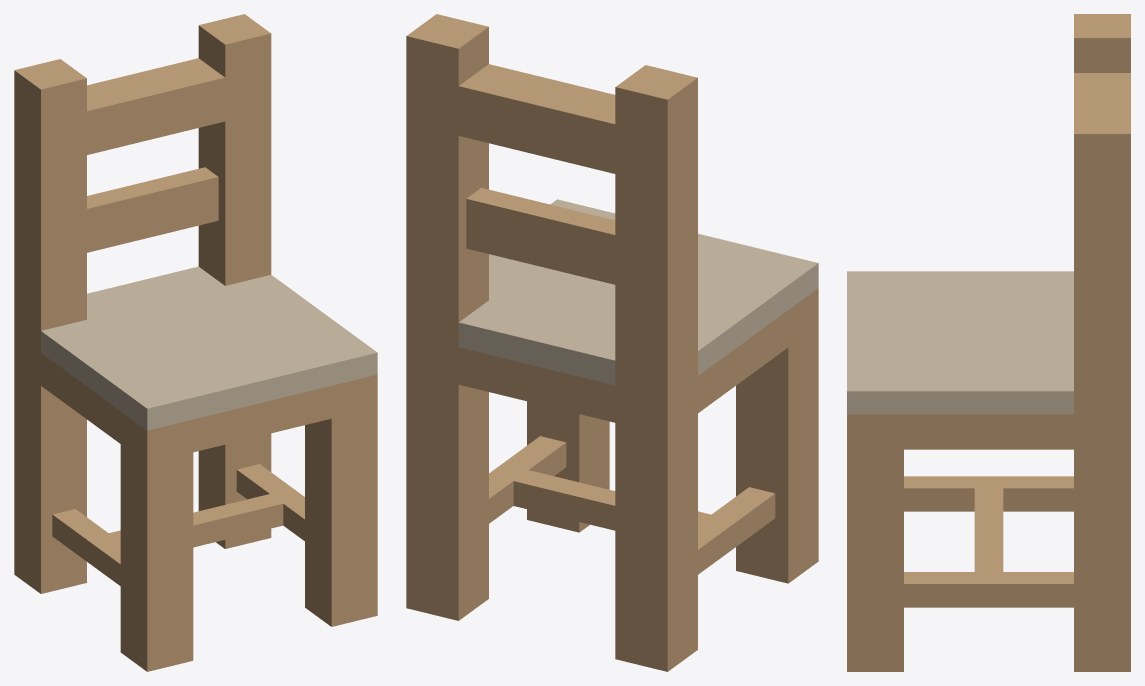
File: chair-dining-cushion.glb
The picture shows the model from 3 angles, left to right: view 1: azimuth 30°, elevation 25°; view 2: azimuth 150°, elevation 25°; view 3: azimuth 270°, elevation 25°; orthographic projection. The views are drawn at different scales.
Visible parts, largest first — view 1: chair-dining-cushion; view 2: chair-dining-cushion; view 3: chair-dining-cushion.
Part boxes in pixels (left/top/right/bottom): chair-dining-cushion: left=14, top=14, right=377, bottom=671; chair-dining-cushion: left=406, top=14, right=818, bottom=671; chair-dining-cushion: left=847, top=14, right=1130, bottom=671.
Size of the model in its own units: 0.43 by 0.9 by 0.43.
